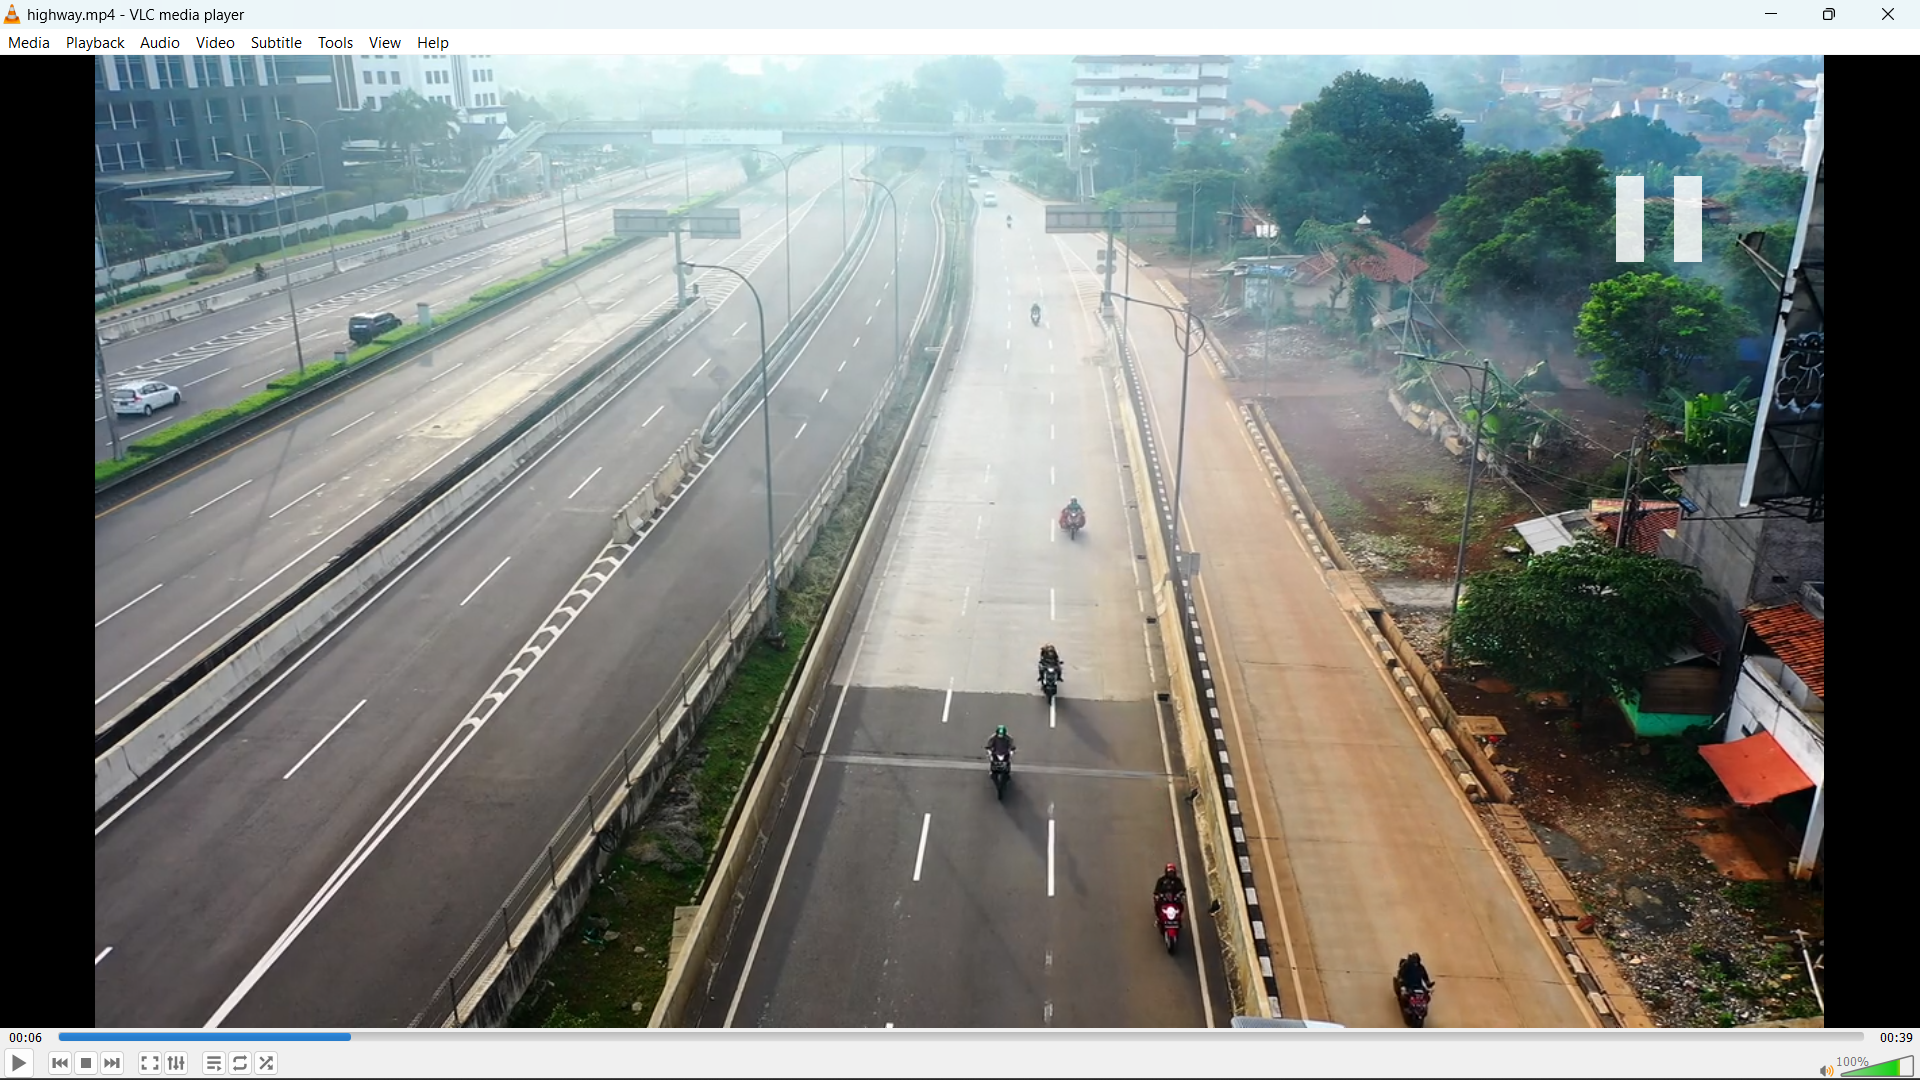MotorCycle: (975, 712, 1023, 812), (1149, 858, 1191, 957), (1389, 945, 1436, 1025), (1033, 636, 1065, 713), (1056, 487, 1091, 551), (1026, 295, 1044, 328)
